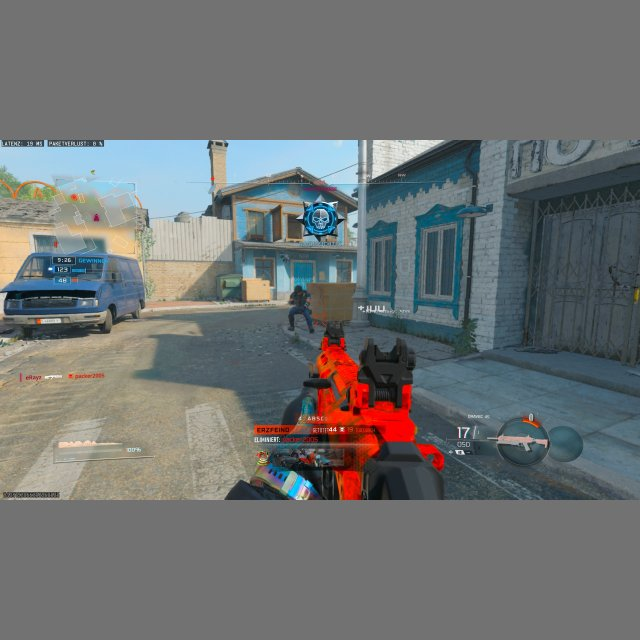head: (294, 284, 302, 293)
player: (286, 284, 315, 334)
